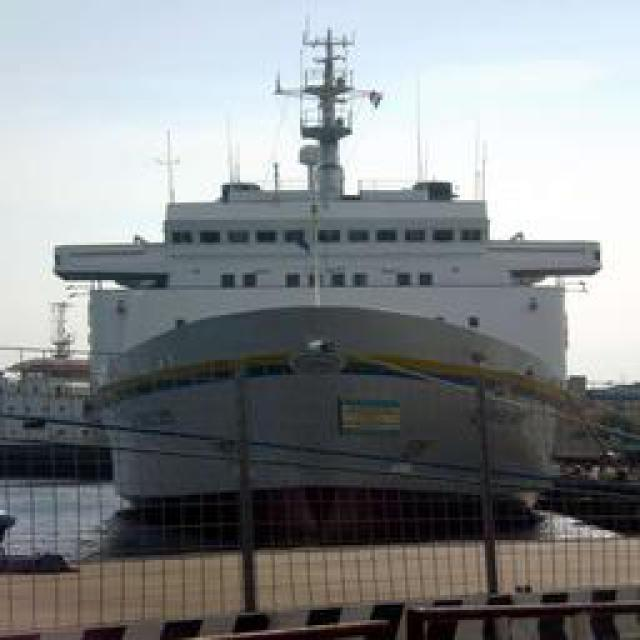Ship: (85, 293, 618, 531)
